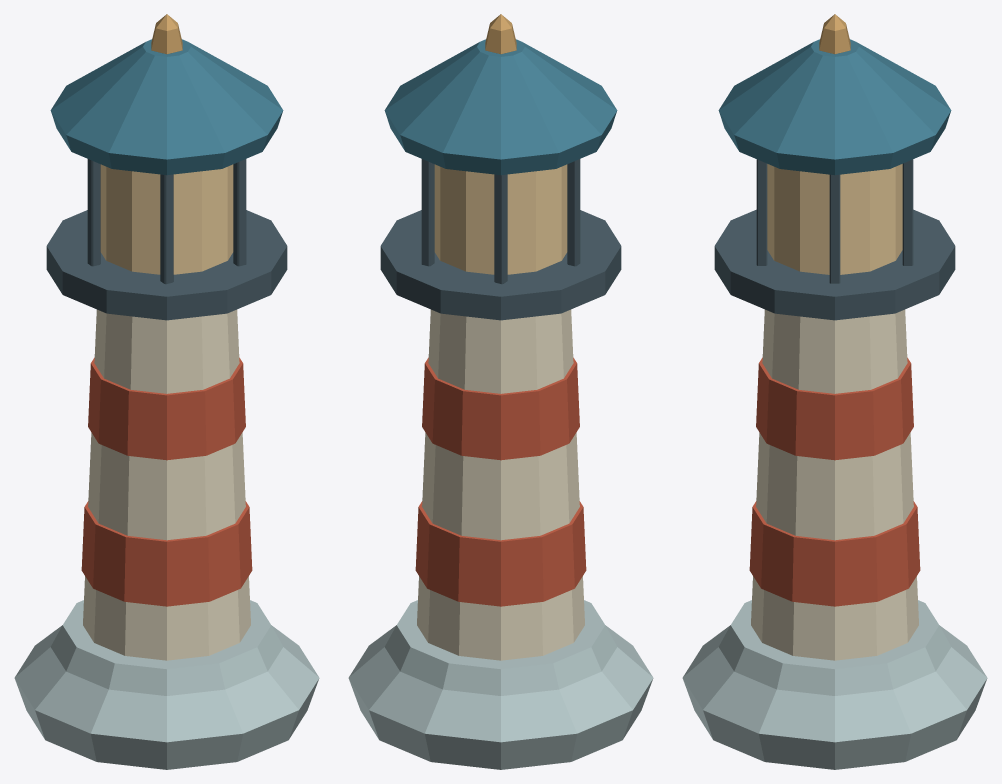
File: 03_Navigation_Beacon.glb
The picture shows the model from 3 angles, left to right: view 1: azimuth 30°, elevation 25°; view 2: azimuth 150°, elevation 25°; view 3: azimuth 270°, elevation 25°; orthographic projection.
Parts seen in each view (by area): view 1: 03_Navigation_Beacon__Body; view 2: 03_Navigation_Beacon__Body; view 3: 03_Navigation_Beacon__Body.
Part boxes in pixels (x1=…): 03_Navigation_Beacon__Body: x1=14, y1=14, x2=319, y2=769; 03_Navigation_Beacon__Body: x1=348, y1=14, x2=653, y2=769; 03_Navigation_Beacon__Body: x1=682, y1=14, x2=987, y2=769.
Size of the model in its own units: 1.52 by 3.83 by 1.52.
Materials: 1 (1 with a texture image).
